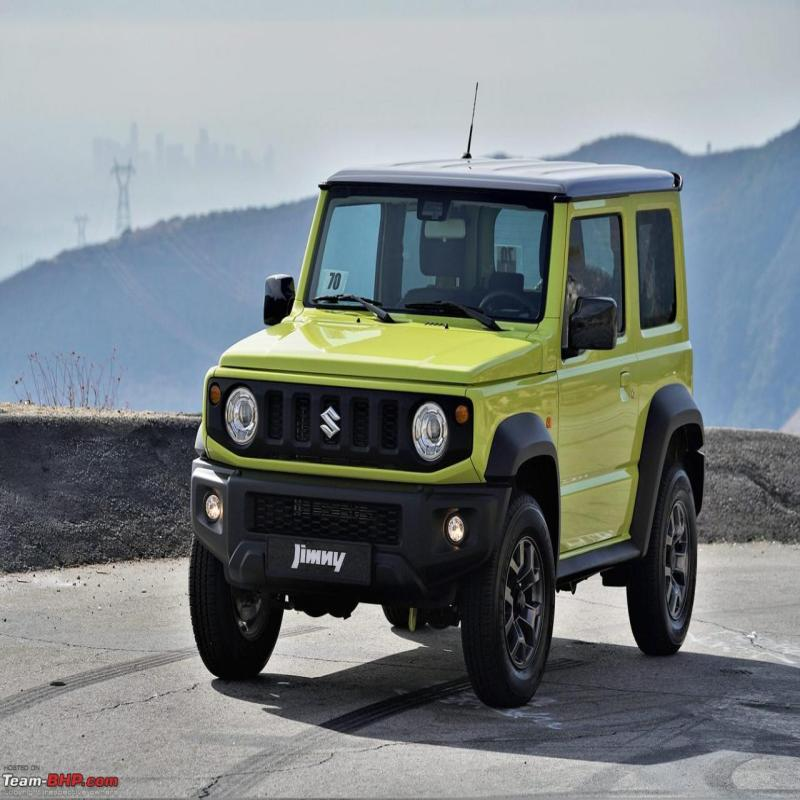car: (154, 126, 731, 699)
